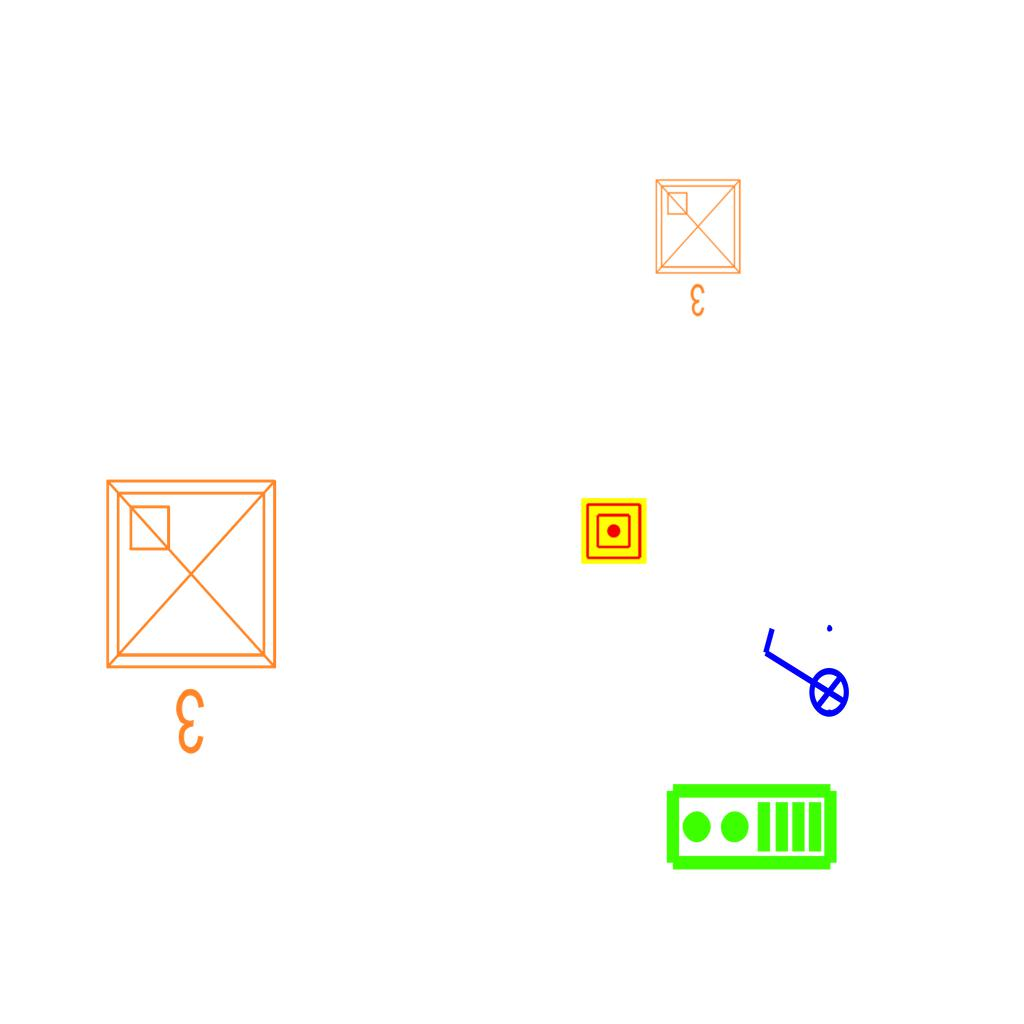Ausschalter_beleuchtet: (755, 619, 851, 731)
Einbaudownlights_LED_Konferenzraeume: (91, 465, 299, 765), (648, 172, 752, 322)
Gegensprechanlage_mit_Video: (663, 781, 839, 876)
NAM-Nichtautomatischer_Melder: (581, 498, 647, 564)
